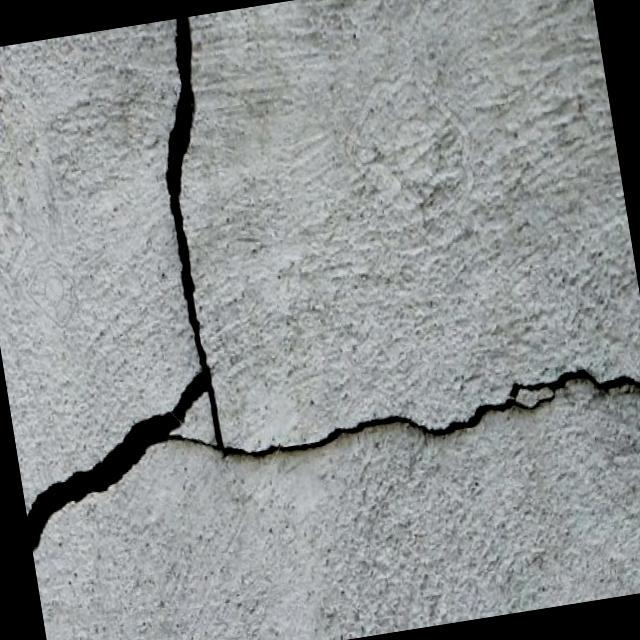crack: (10, 302, 640, 554), (136, 19, 246, 373)
